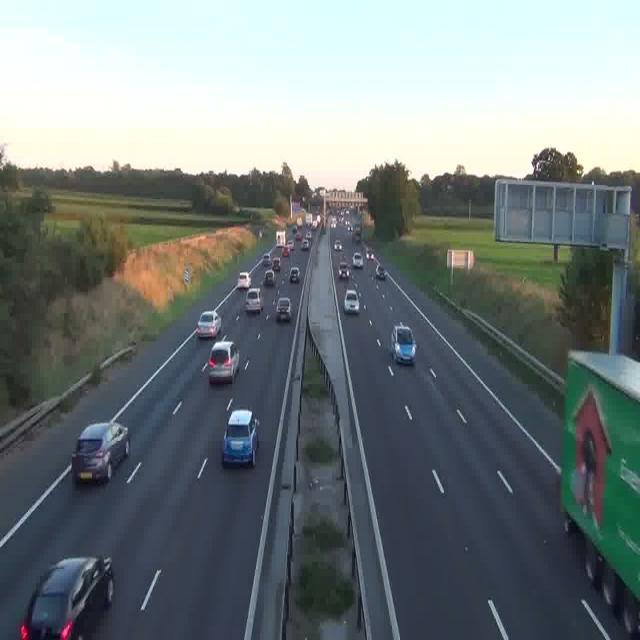bus: (275, 228, 286, 250)
car: (20, 555, 113, 640), (71, 422, 129, 484), (222, 410, 258, 466), (207, 340, 238, 384), (390, 324, 416, 364), (196, 312, 221, 340), (245, 290, 262, 314), (344, 288, 360, 313), (276, 298, 292, 322), (237, 272, 251, 291), (262, 270, 276, 286), (375, 261, 386, 280), (338, 263, 350, 280), (352, 252, 363, 270), (288, 266, 300, 282), (262, 252, 272, 266), (366, 249, 376, 262), (279, 248, 288, 260), (301, 240, 309, 252), (333, 239, 341, 250), (307, 234, 314, 245)
truck: (562, 350, 640, 635)
